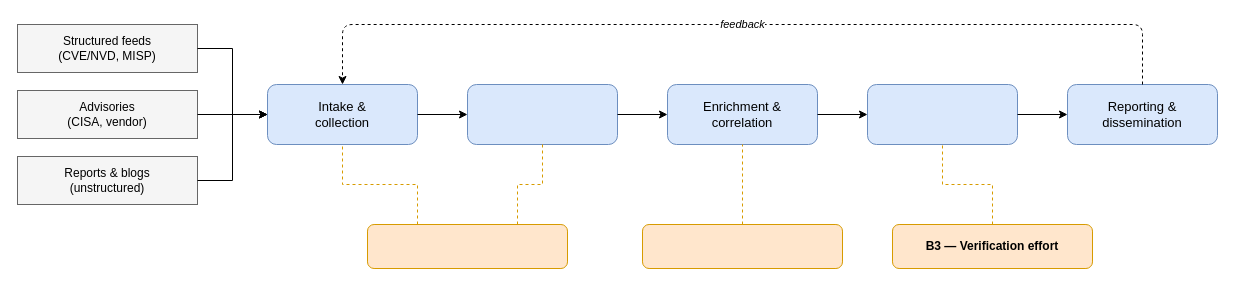
The diagram is 1235 pixels wide and 286 high, and some of its shapes have lost their labels. The box of each missing label's shape, as (x1, y1, x2, y2) in pixels:
Assessment & verification: (866, 84, 1018, 144)
B1 — Information overload: (366, 224, 568, 268)
B2 — Recency: (642, 224, 842, 268)
Triage: (466, 84, 618, 144)
